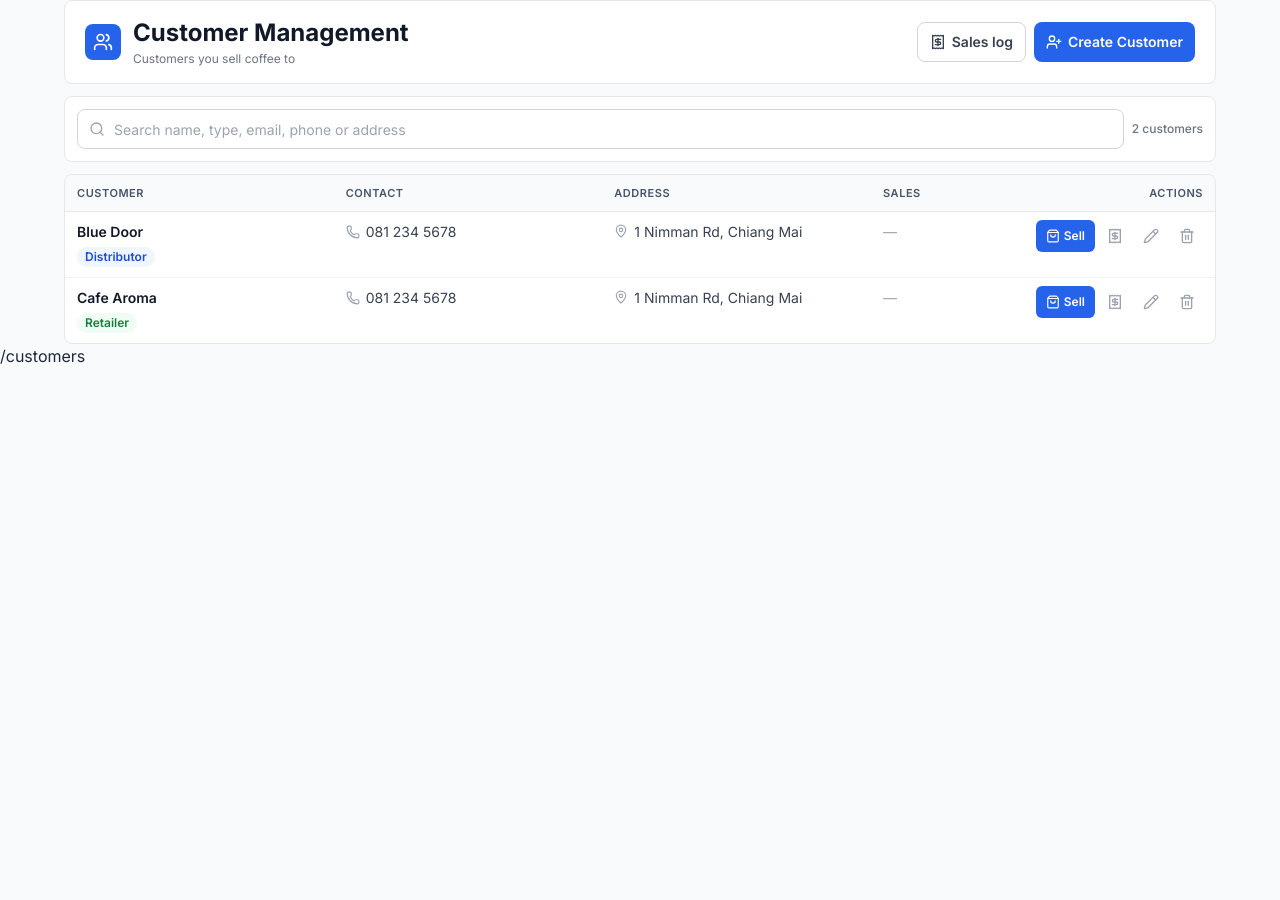
CustomerManagement layout › opens the edit popup filled in, and the sales log for the customer
Click the button named "Edit customer Blue Door" at (1151,236), box [1135,220,1167,252]
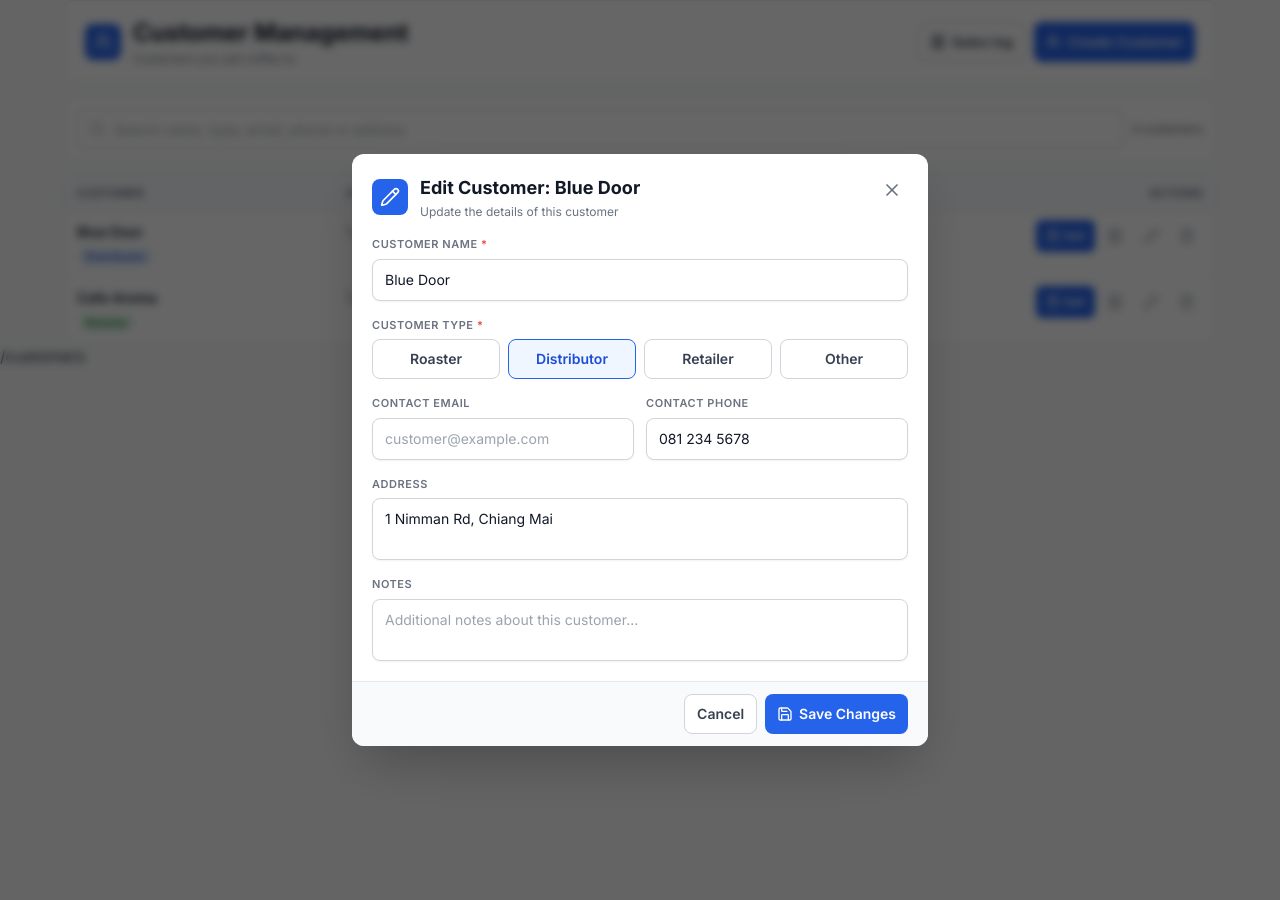
Check: the field labelled "Customer Name *" holds "Blue Door", box [372,259,908,301]
Check: the radio button labelled "Distributor" is checked, box [508,339,636,379]
Check: the button "Save Changes" is enabled, box [765,694,908,734]
Click the button "Cancel" at (721,714), box [684,694,757,734]
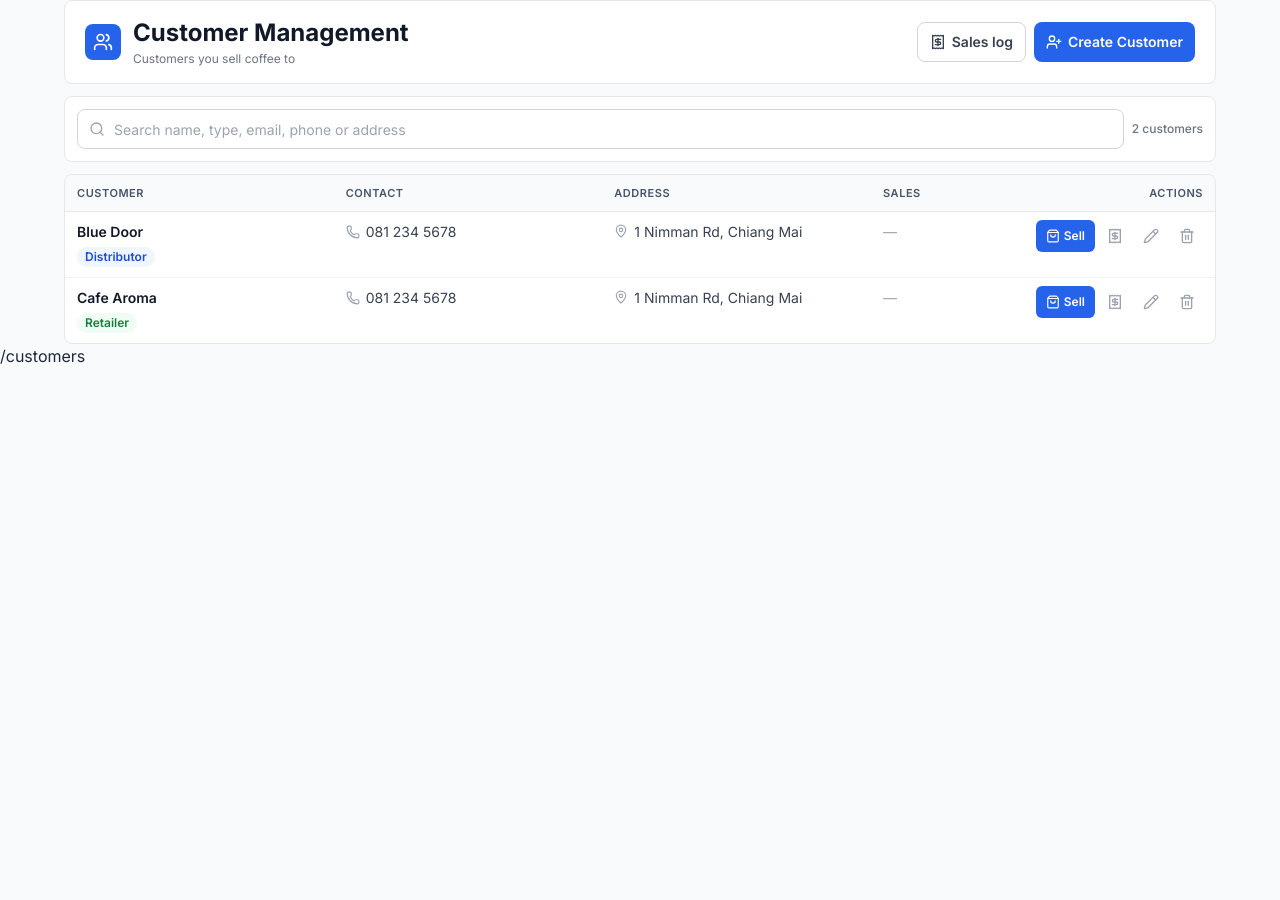
Check: the dialog is gone
Click the button named "Sales to Blue Door" at (1115,236), box [1099,220,1131,252]
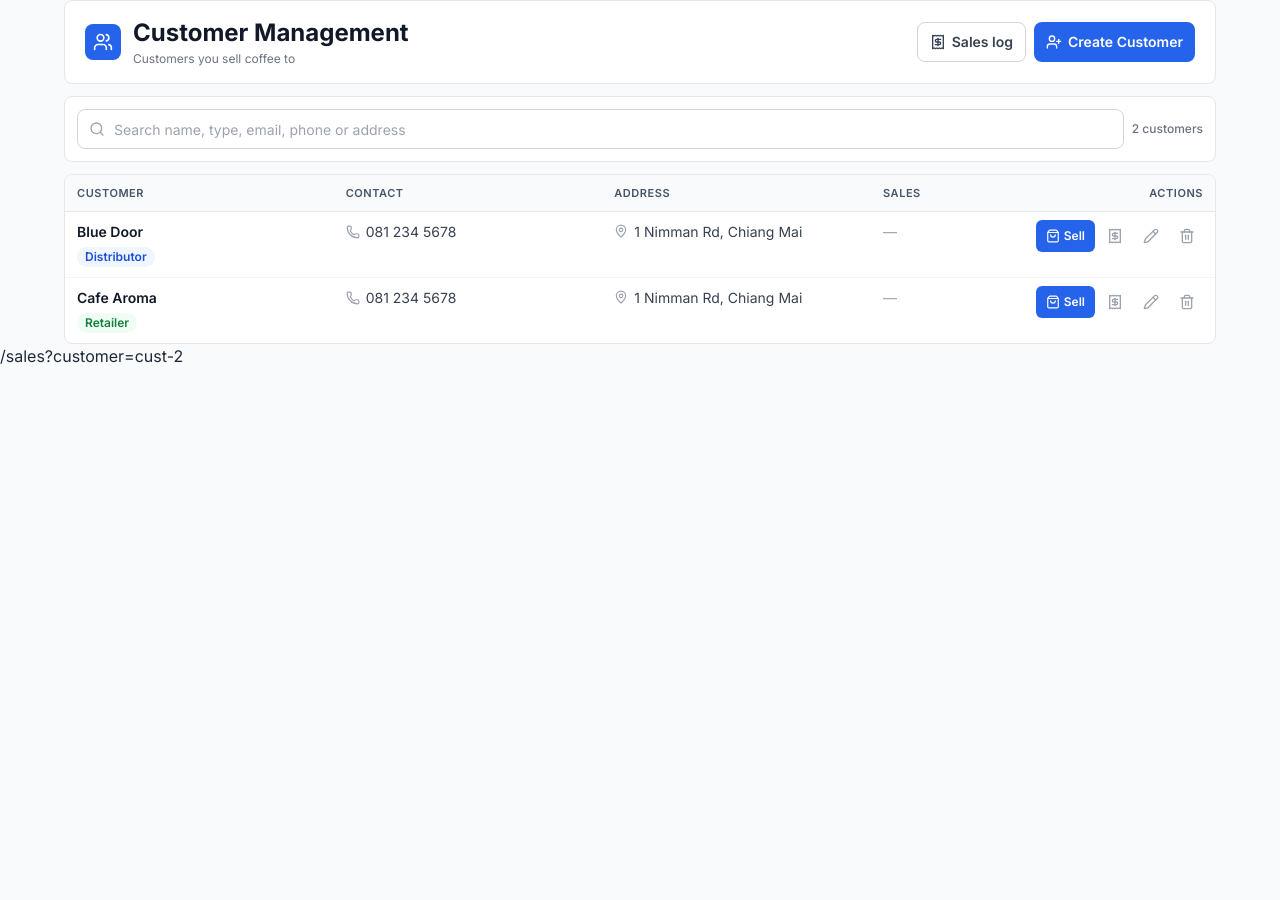
Check: the text with test id "location" reads "/sales?customer=cust-2", box [0,346,183,366]
